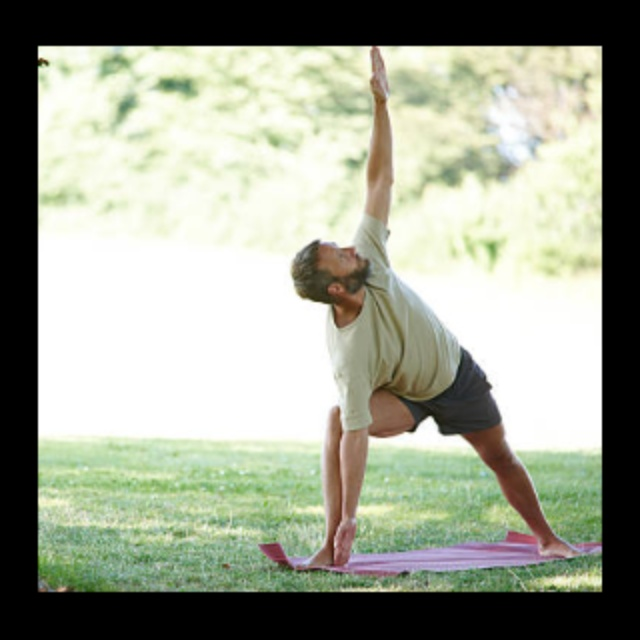Triangle_Pose: (281, 43, 592, 577)
